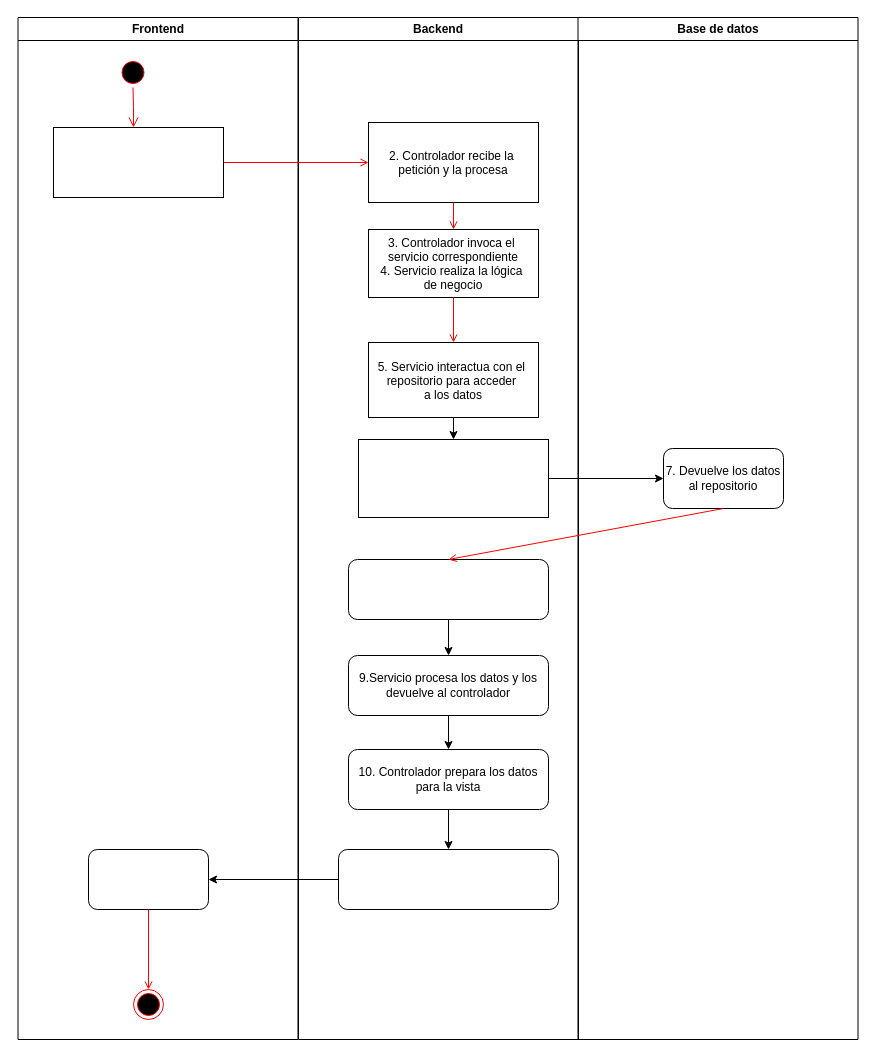
Some shapes in this 875 by 1057 pixel diagram are drawn without their labels. Each missing label, with the centre of its shape:
1. Realiza una petición HTTP: the point at 138,162
11. Controlador devuelve la vista al cliente: the point at 448,879
12. Cliente recibe la vista y la muestra al usuario: the point at 148,879
6. Repositorio realiza operaciones en la BD: the point at 453,478
8. Repositorio develue los datos al servicio: the point at 448,589
